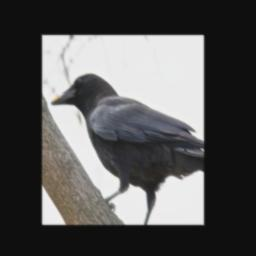Crow: (50, 73, 203, 224)
